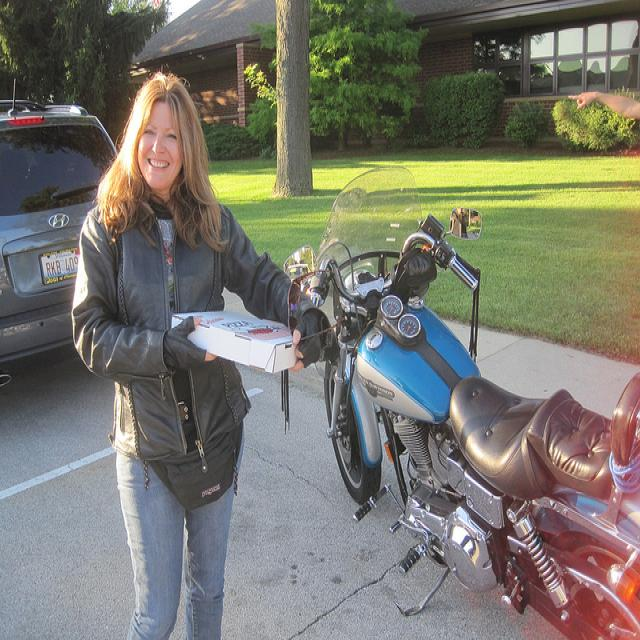motor: (285, 160, 640, 633)
